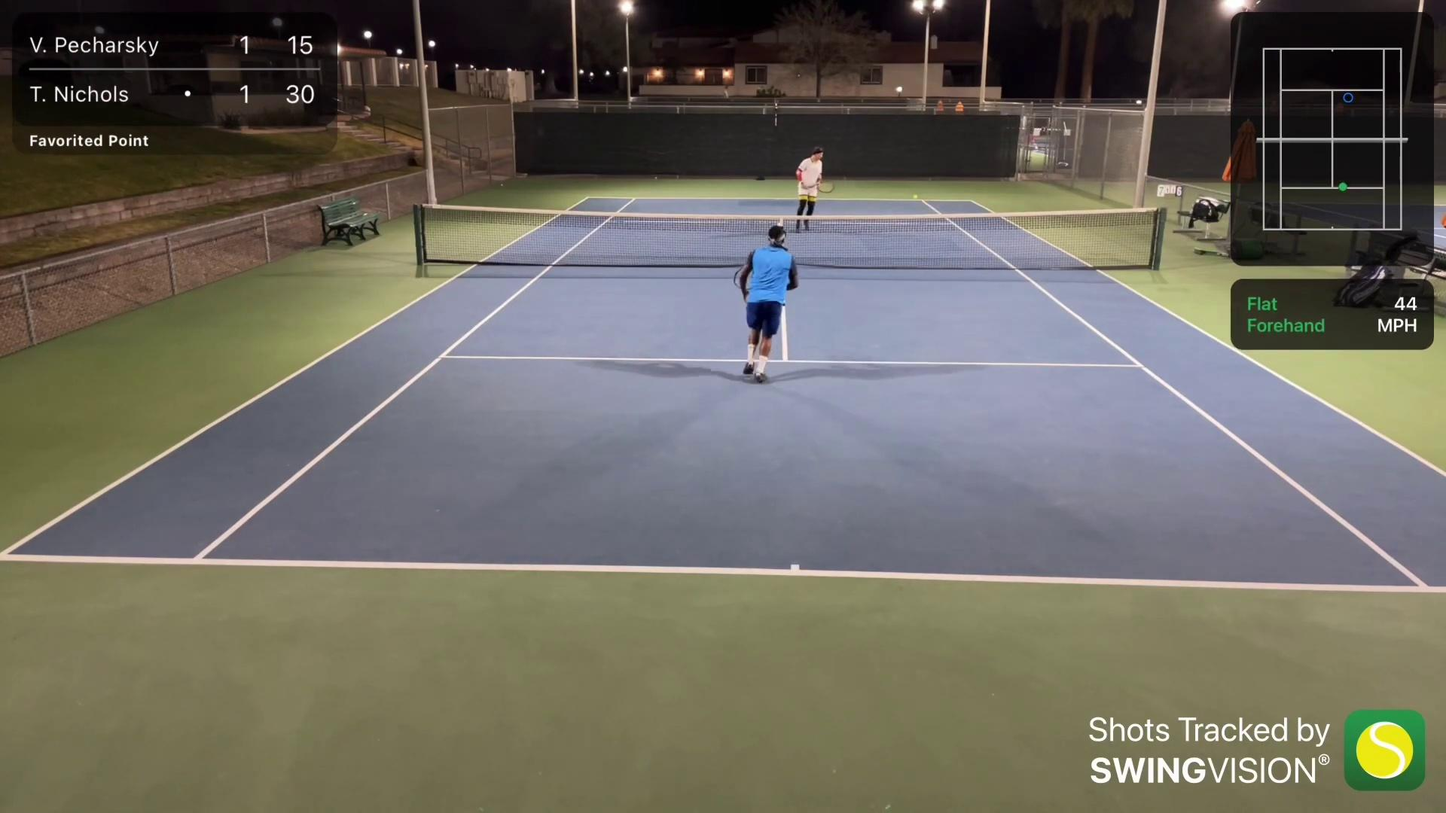ball: (909, 193, 921, 200)
